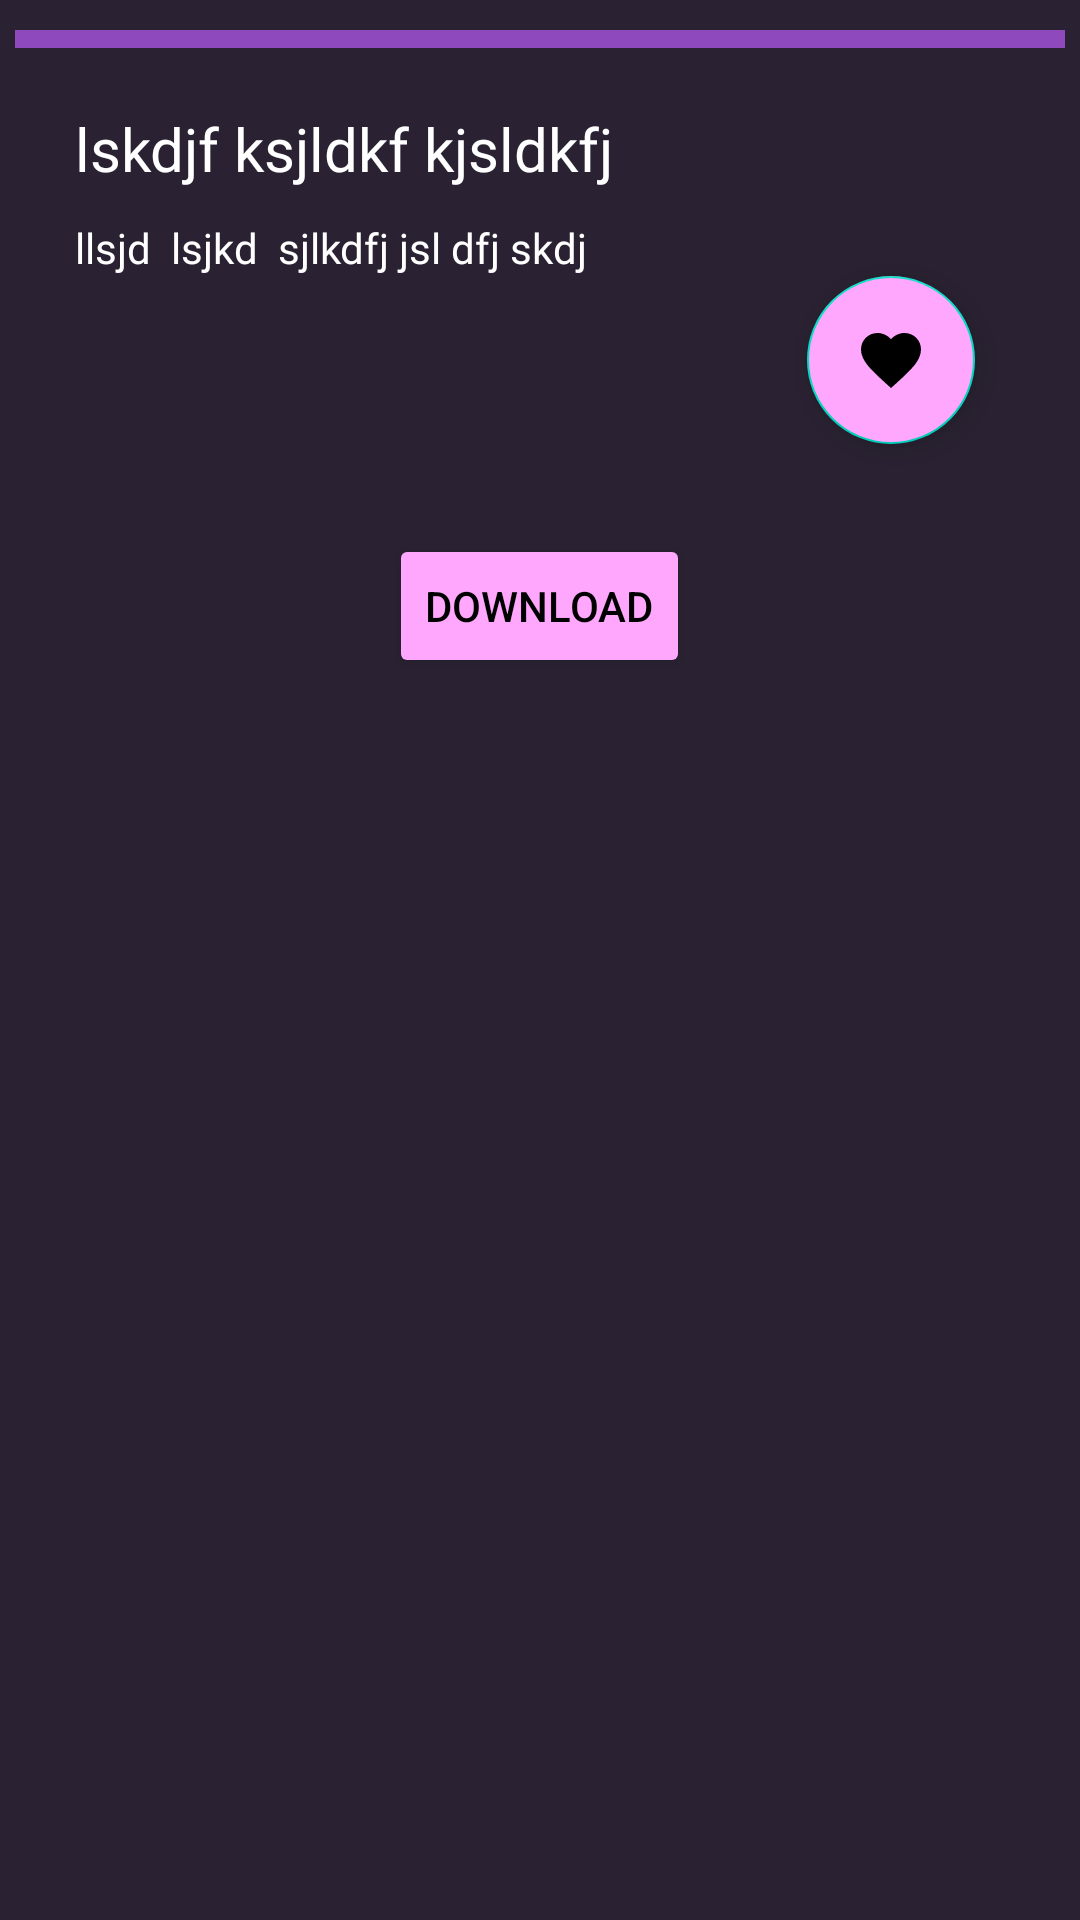

Where to tap for icons on this 1080×1920 app screen, as (x=x, y=y):
favorite: (x=891, y=360)
